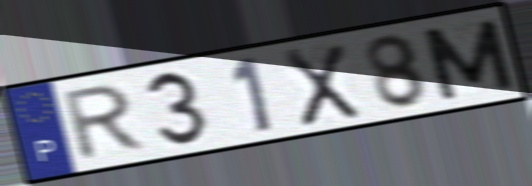1: (227, 53, 276, 136)
3: (144, 66, 212, 153)
8: (362, 31, 429, 111)
M: (417, 15, 519, 104)
R: (61, 80, 150, 164)
X: (279, 41, 363, 130)
